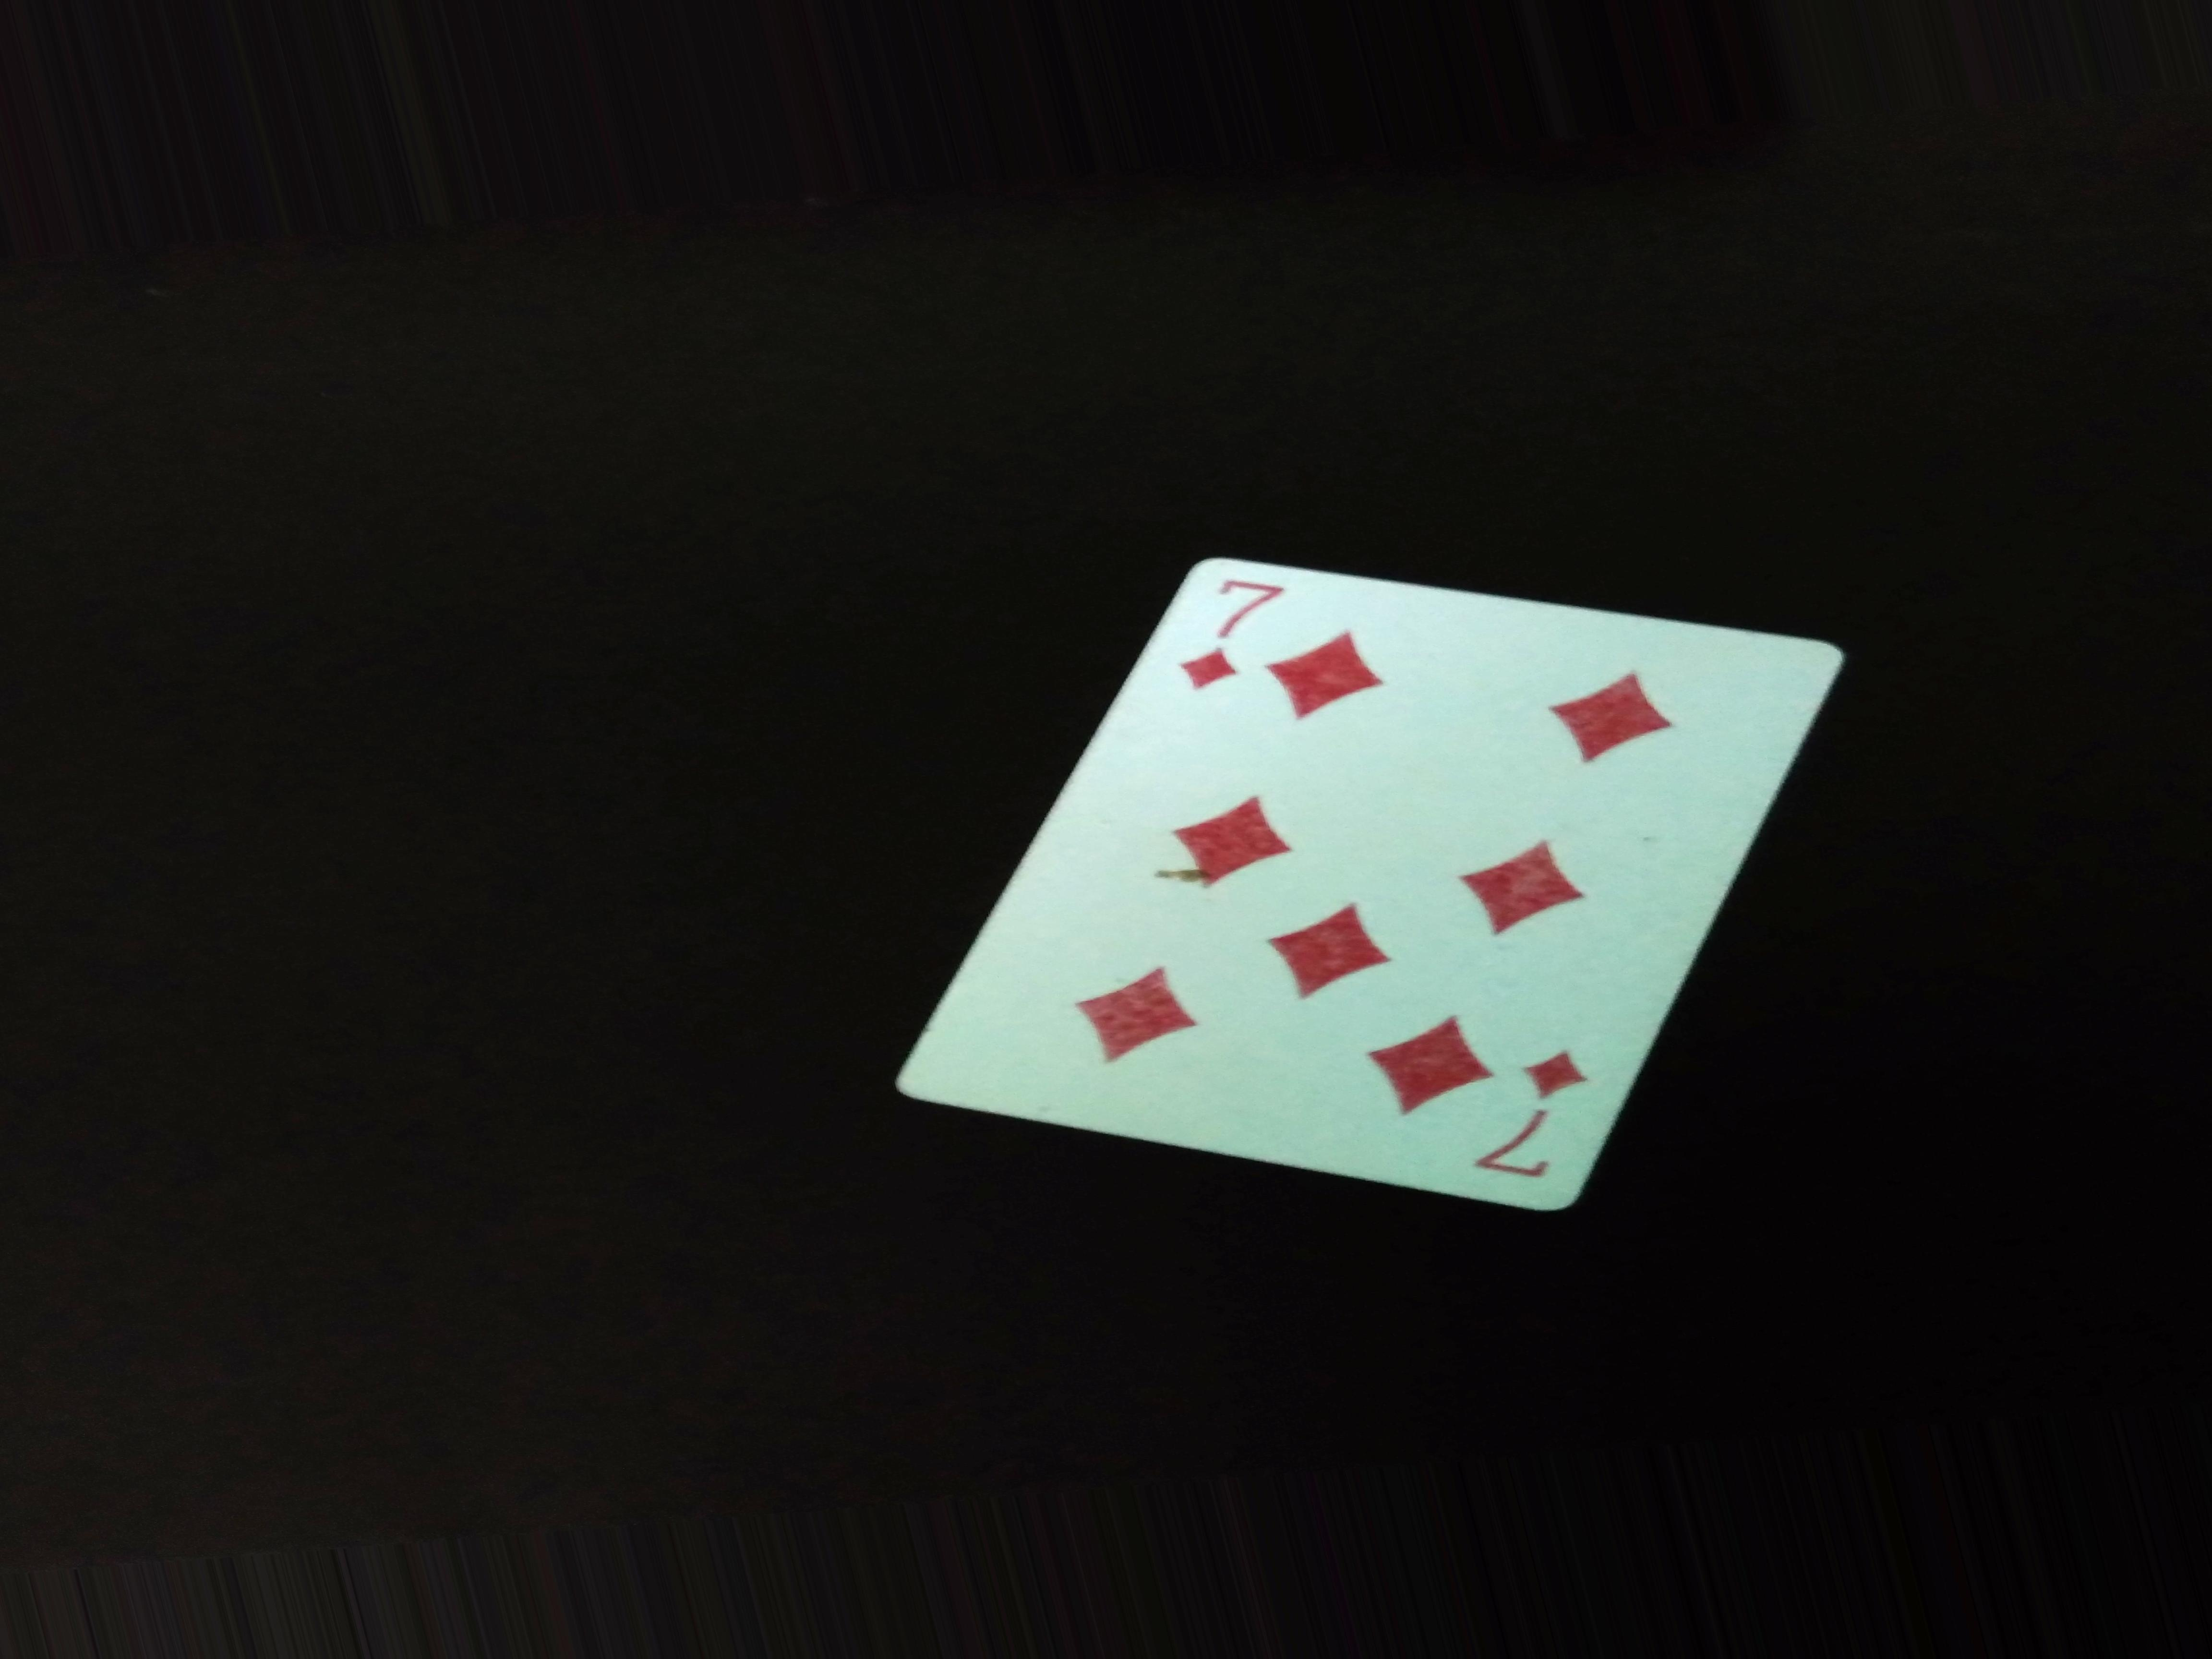7D: (1174, 577, 1287, 714)
